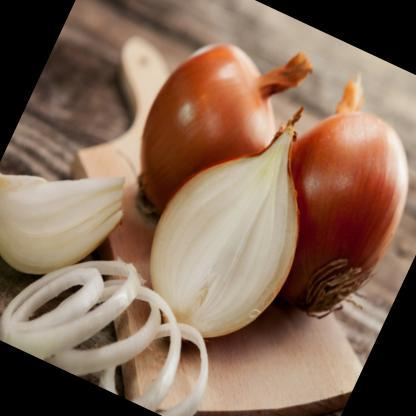onion: (115, 80, 357, 377)
